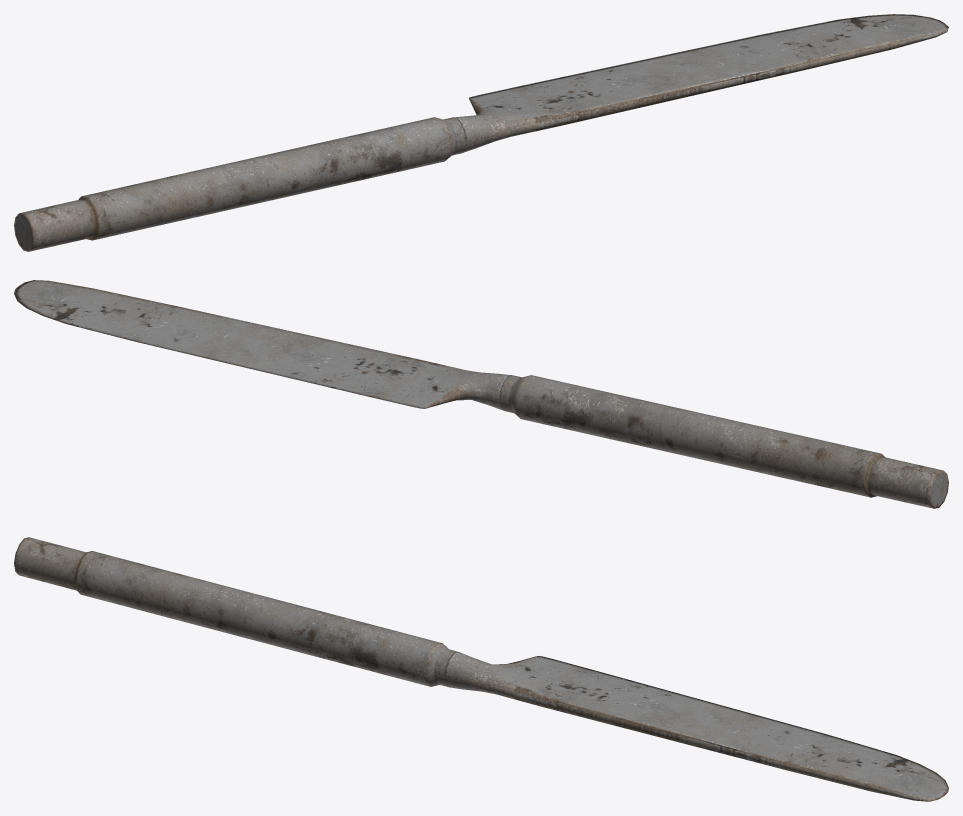
The model's file is SM_Kitchenware04_3_LOD0.glb.
3 views of the same model, one above another, from view 1: azimuth 30°, elevation 25°; view 2: azimuth 150°, elevation 25°; view 3: azimuth 330°, elevation 25° (orthographic).
Parts seen in each view (by area): view 1: SM_Kitchenware04_3_LOD0; view 2: SM_Kitchenware04_3_LOD0; view 3: SM_Kitchenware04_3_LOD0.
Boxes of the visible parts, left/top/right/bottom form: SM_Kitchenware04_3_LOD0: left=14, top=14, right=948, bottom=251; SM_Kitchenware04_3_LOD0: left=14, top=280, right=948, bottom=508; SM_Kitchenware04_3_LOD0: left=14, top=537, right=948, bottom=801.
Size of the model in its own units: 0.452 by 0.0226 by 0.0412.
1 material, 1 textured.
